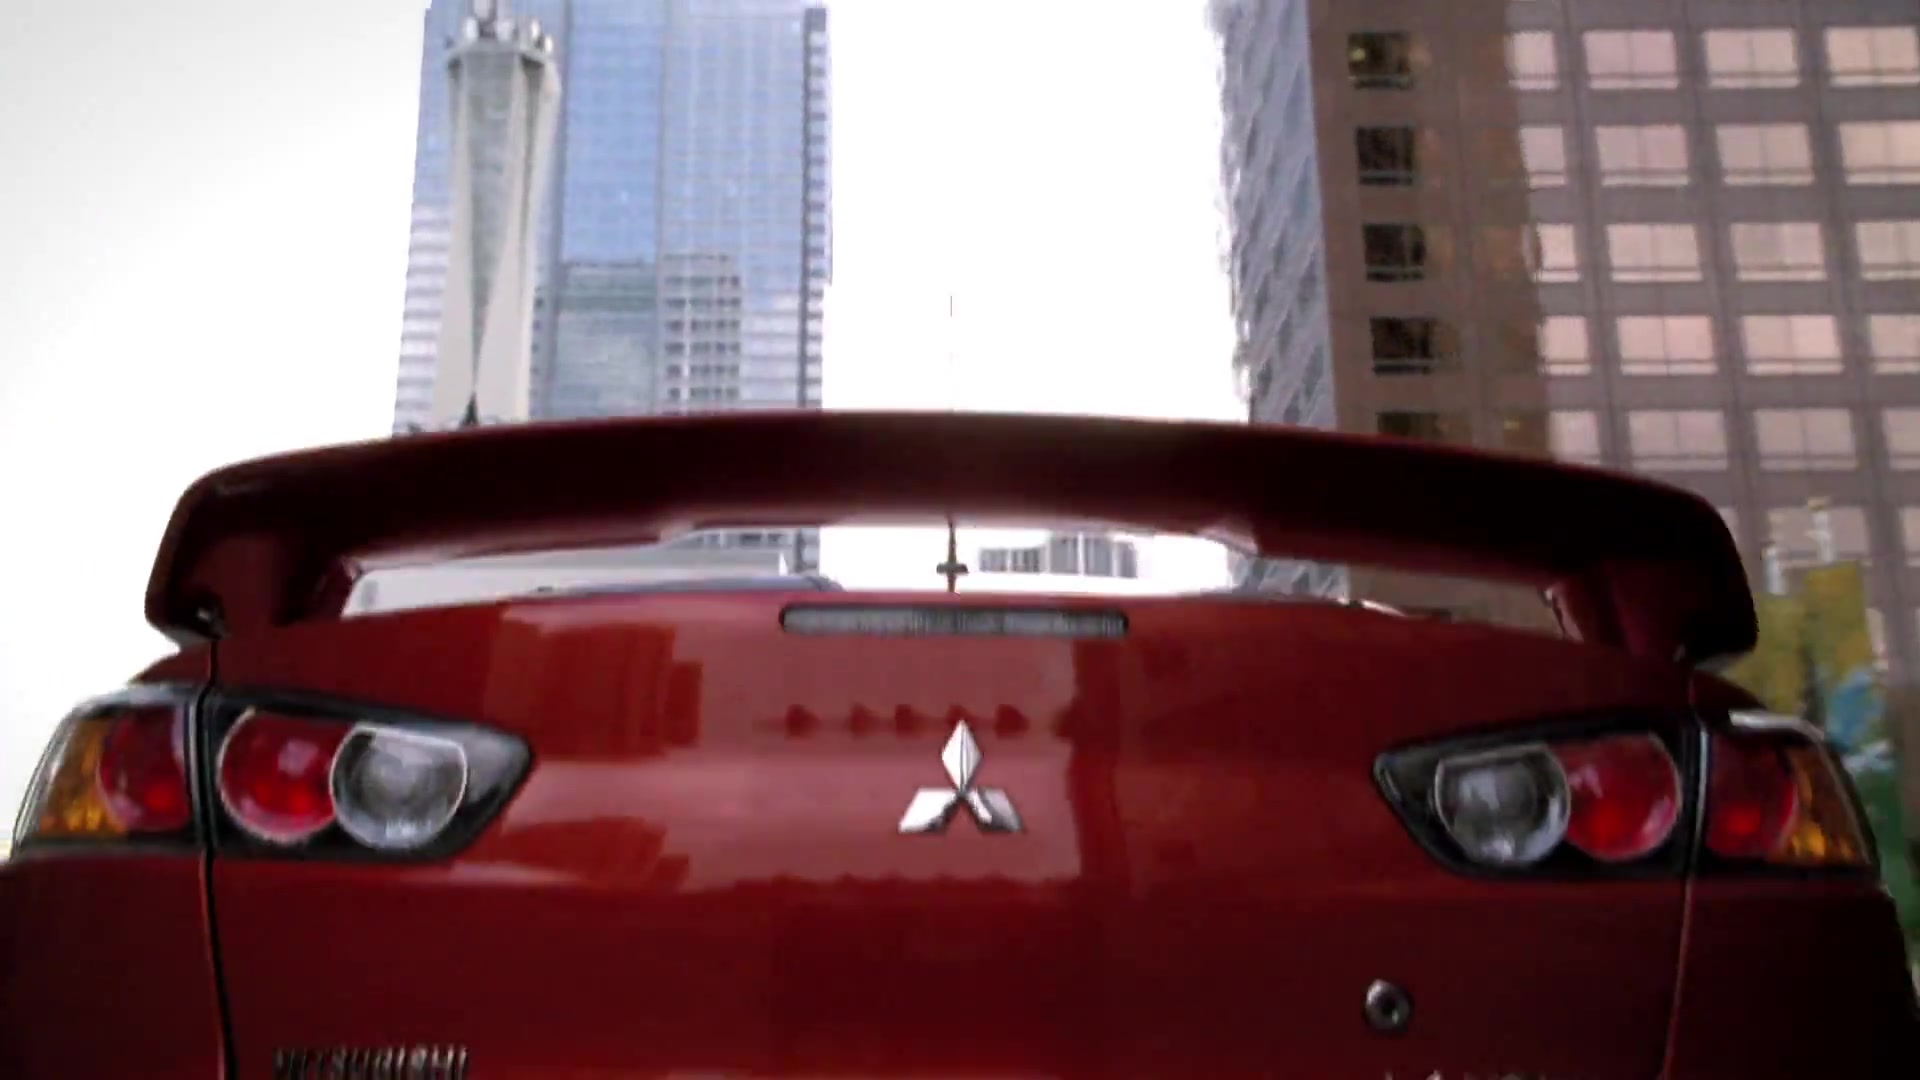car: (3, 404, 1920, 1080)
